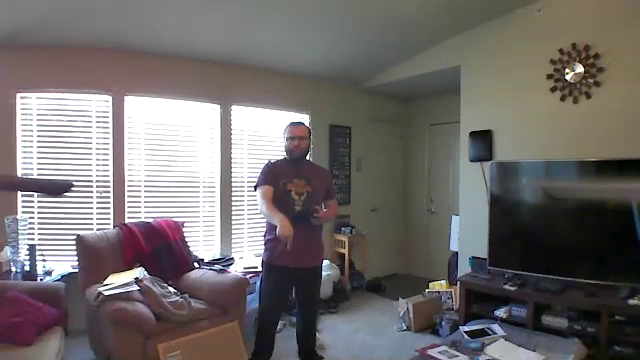down: (272, 208, 295, 252)
